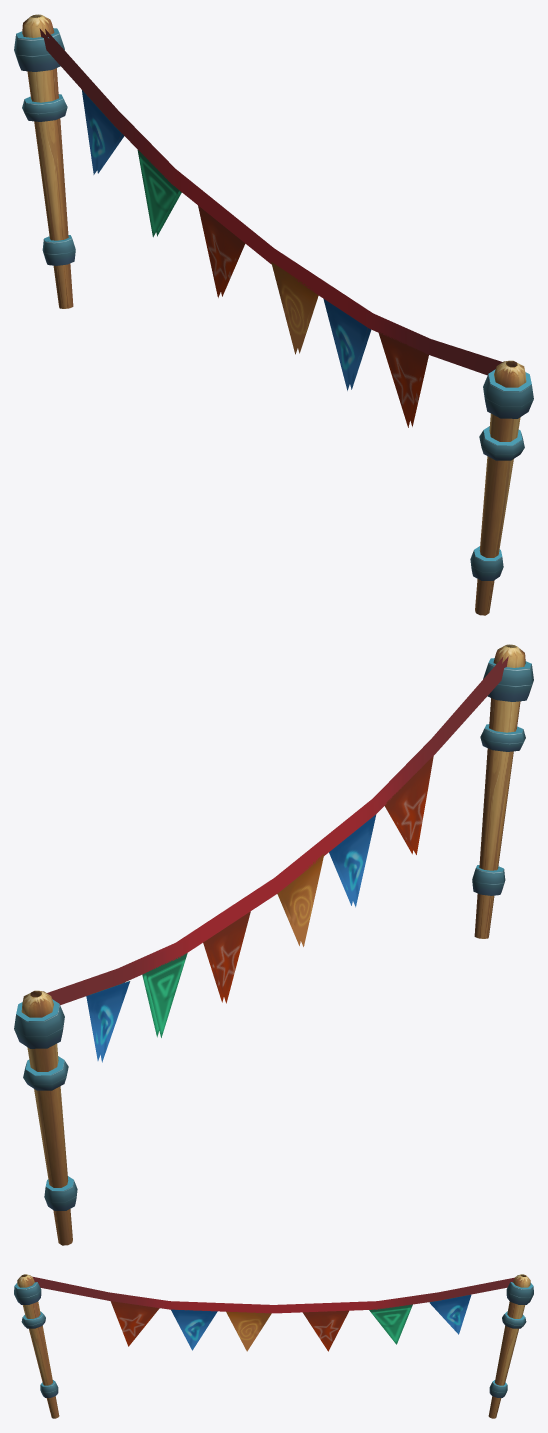
The model's file is rc_01_budA_17.FBX.
3 views of the same model, one above another, from view 1: azimuth 30°, elevation 25°; view 2: azimuth 150°, elevation 25°; view 3: azimuth 270°, elevation 25° (orthographic). The views are drawn at different scales.
Visible parts, largest first — view 1: Plane011, Cylinder044; view 2: Plane011, Cylinder044; view 3: Plane011, Cylinder044.
Boxes of the visible parts, bbox=[...] form: Plane011: bbox=[39, 28, 506, 427]; Cylinder044: bbox=[14, 14, 533, 615]; Plane011: bbox=[47, 656, 508, 1062]; Cylinder044: bbox=[14, 644, 533, 1245]; Plane011: bbox=[32, 1276, 514, 1351]; Cylinder044: bbox=[14, 1274, 533, 1418].
Bounding box in the file's own units: 259 × 4828 × 1461.
